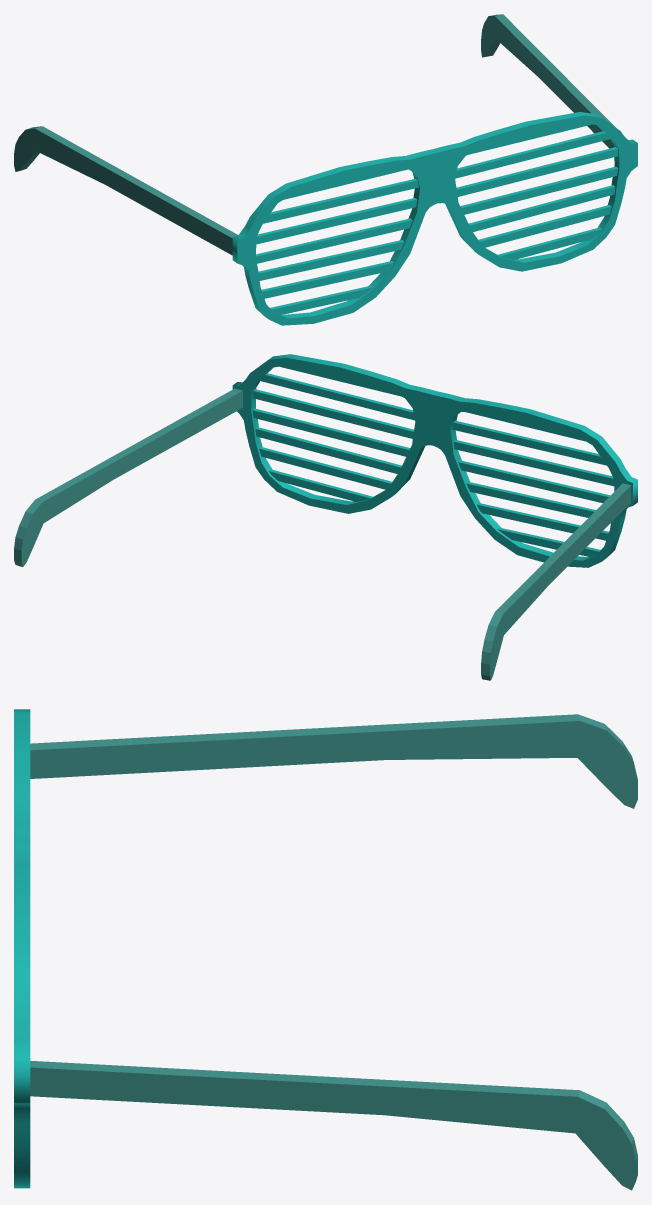
Rendered from coolglasses.fbx.
3 views of the same model, one above another, from view 1: azimuth 30°, elevation 25°; view 2: azimuth 150°, elevation 25°; view 3: azimuth 270°, elevation 25° (orthographic). The views are drawn at different scales.
Parts seen in each view (by area): view 1: Cube.006, Cube.005, Cube.004; view 2: Cube.006, Cube.005, Cube.004; view 3: Cube.004, Cube.005.
Part boxes in pixels (x1=…): Cube.006: x1=256, y1=123, x2=618, y2=315; Cube.005: x1=232, y1=112, x2=637, y2=325; Cube.004: x1=14, y1=14, x2=627, y2=255; Cube.006: x1=252, y1=365, x2=614, y2=557; Cube.005: x1=232, y1=354, x2=637, y2=567; Cube.004: x1=14, y1=388, x2=630, y2=680; Cube.004: x1=30, y1=714, x2=637, y2=1190; Cube.005: x1=14, y1=709, x2=30, y2=1188.
Bounding box in the file's own units: 6.53 × 1.91 × 4.43.
